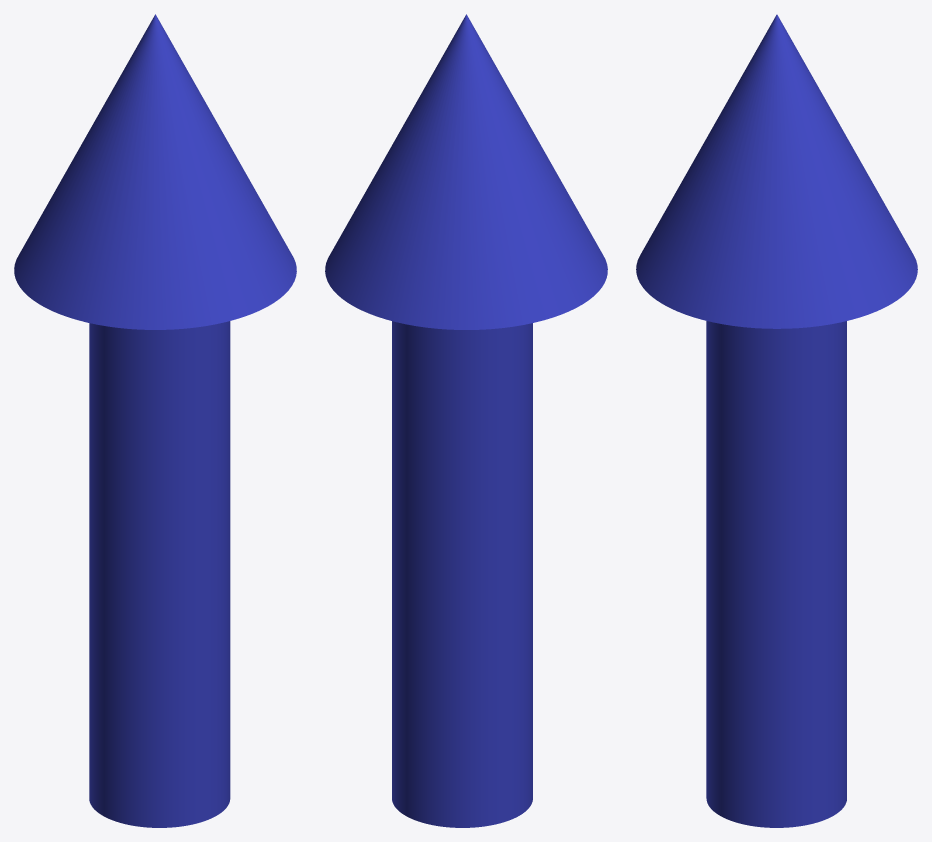
Rendered from Arrow.fbx.
3 views of the same model, side by side, from view 1: azimuth 30°, elevation 25°; view 2: azimuth 150°, elevation 25°; view 3: azimuth 270°, elevation 25° (orthographic).
Parts seen in each view (by area): view 1: root (×2); view 2: root (×2); view 3: root (×2).
Part boxes in pixels (box(x1,y1,x2,y2)): root (×2): box(14, 14, 296, 827); root (×2): box(325, 14, 607, 827); root (×2): box(636, 14, 917, 827).
Bounding box in the file's own units: 0.1091 × 0.3341 × 0.1091.
